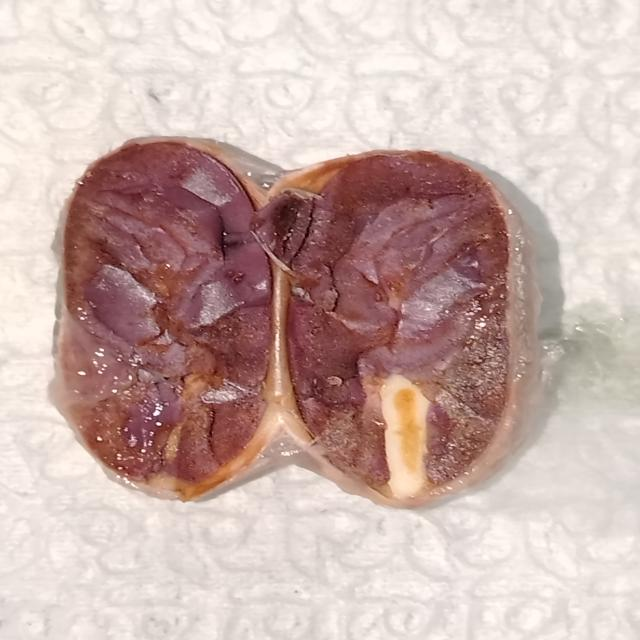Forastero: (288, 152, 514, 502), (66, 146, 280, 492)
